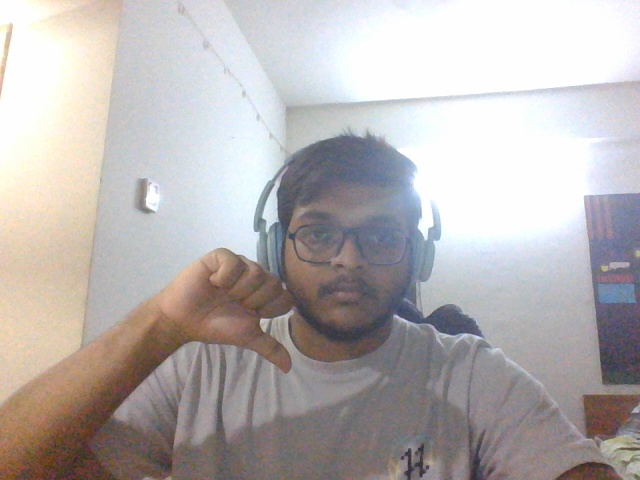ThumbsDown: (159, 248, 297, 378)
